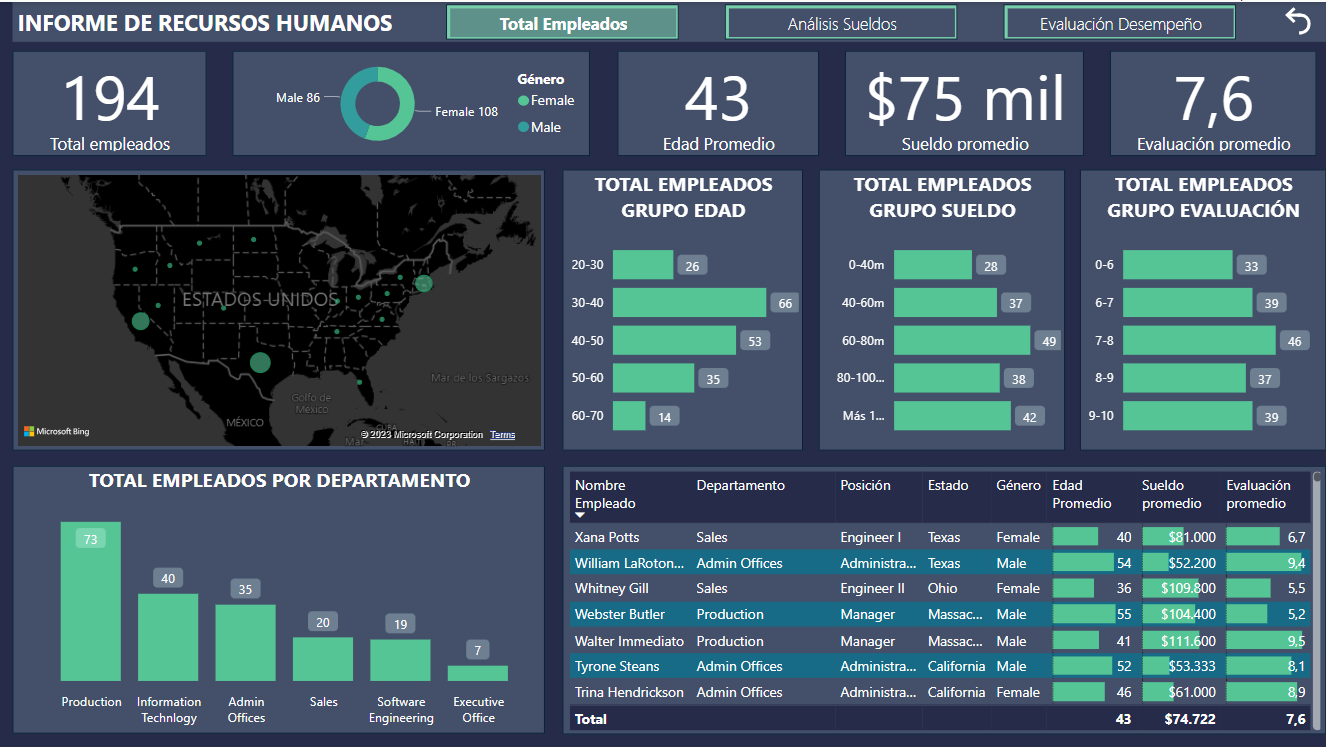

What the dashboard file says about the page in this screenshot:
{"tool":"powerbi","page":{"name":"Total Empleados","canvas":[1280,720],"ordinal":0},"visuals":[{"type":"tableEx","fields":{"Values":["Tabla Empleados.Nombre Empleado","Tabla Empleados.Departamento","Tabla Empleados.Posición","Tabla Empleados.Estado","Tabla Empleados.Género","Tabla Empleados.Edad Promedio","Tabla Sueldo.Sueldo promedio","Tabla Evaluacion.Evaluación promedio"]},"box":[542.7,447.4,736.9,259.3],"z":0},{"type":"card","fields":{"Values":["Tabla Empleados.Total empleados"]},"box":[12.1,47,186.9,101.3],"z":1000},{"type":"donutChart","fields":{"Category":["Tabla Empleados.Género"],"Y":["Tabla Empleados.Total empleados"]},"box":[224.6,47,344.9,101.3],"z":2000},{"type":"columnChart","title":"TOTAL EMPLEADOS POR DEPARTAMENTO","fields":{"Category":["Tabla Empleados.Departamento"],"Y":["Tabla Empleados.Total empleados"]},"box":[12.1,447.4,513.8,258.1],"z":3000},{"type":"map","fields":{"Category":["Tabla Empleados.Estado"],"Size":["Tabla Empleados.Total empleados"]},"box":[12.1,161.6,513.8,271.4],"z":4000},{"type":"card","fields":{"Values":["Tabla Sueldo.Sueldo promedio"]},"box":[815,47,230.4,101.3],"z":5000},{"type":"card","fields":{"Values":["Tabla Evaluacion.Evaluación promedio"]},"box":[1071,47,199,101.3],"z":6000},{"type":"card","fields":{"Values":["Tabla Empleados.Edad Promedio"]},"box":[595.2,47,194.2,101.3],"z":7000},{"type":"barChart","title":"TOTAL EMPLEADOS GRUPO EDAD","fields":{"Category":["Tabla Empleados.Grupo Edad"],"Y":["Tabla Empleados.Total empleados"]},"box":[543,161.7,232.1,271.5],"z":8000},{"type":"barChart","title":"TOTAL EMPLEADOS GRUPO SUELDO","fields":{"Category":["Tabla Sueldo.Grupo Sueldo"],"Y":["Tabla Empleados.Total empleados"]},"box":[789.9,161.6,237.6,271.4],"z":9000},{"type":"barChart","title":"TOTAL EMPLEADOS GRUPO EVALUACIÓN","fields":{"Category":["Tabla Evaluacion.Grupo Evaluación"],"Y":["Tabla Empleados.Total empleados"]},"box":[1042,161.6,237.6,271.4],"z":10000},{"type":"textbox","title":"INFORME DE RECURSOS HUMANOS","box":[12.1,0,1267.5,38.6],"z":11000},{"type":"actionButton","box":[430.6,2.4,224.3,33.8],"z":13000},{"type":"actionButton","box":[699.5,2.4,224.3,33.8],"z":14000},{"type":"actionButton","box":[968.4,2.4,224.3,33.8],"z":15000},{"type":"actionButton","box":[1225.3,0,54.3,36.2],"z":15001}]}

Visuals, with their boxes in screenshot pixels (x1, y1, x2, y2), scaled from the page's 1280x720 canvas onto the 1326x747 screenshot:
tableEx - Tabla Empleados.Nombre Empleado x Tabla Empleados.Departamento: {"x1": 562, "y1": 464, "x2": 1325, "y2": 733}
card - Tabla Empleados.Total empleados: {"x1": 13, "y1": 49, "x2": 206, "y2": 154}
donutChart - Tabla Empleados.Género x Tabla Empleados.Total empleados: {"x1": 233, "y1": 49, "x2": 590, "y2": 154}
"TOTAL EMPLEADOS POR DEPARTAMENTO" columnChart: {"x1": 13, "y1": 464, "x2": 545, "y2": 732}
map - Tabla Empleados.Estado x Tabla Empleados.Total empleados: {"x1": 13, "y1": 168, "x2": 545, "y2": 449}
card - Tabla Sueldo.Sueldo promedio: {"x1": 844, "y1": 49, "x2": 1083, "y2": 154}
card - Tabla Evaluacion.Evaluación promedio: {"x1": 1109, "y1": 49, "x2": 1316, "y2": 154}
card - Tabla Empleados.Edad Promedio: {"x1": 617, "y1": 49, "x2": 818, "y2": 154}
"TOTAL EMPLEADOS GRUPO EDAD" barChart: {"x1": 563, "y1": 168, "x2": 803, "y2": 449}
"TOTAL EMPLEADOS GRUPO SUELDO" barChart: {"x1": 818, "y1": 168, "x2": 1064, "y2": 449}
"TOTAL EMPLEADOS GRUPO EVALUACIÓN" barChart: {"x1": 1079, "y1": 168, "x2": 1325, "y2": 449}
"INFORME DE RECURSOS HUMANOS" textbox: {"x1": 13, "y1": 0, "x2": 1325, "y2": 40}
actionButton: {"x1": 446, "y1": 2, "x2": 678, "y2": 38}
actionButton: {"x1": 725, "y1": 2, "x2": 957, "y2": 38}
actionButton: {"x1": 1003, "y1": 2, "x2": 1236, "y2": 38}
actionButton: {"x1": 1269, "y1": 0, "x2": 1325, "y2": 38}
